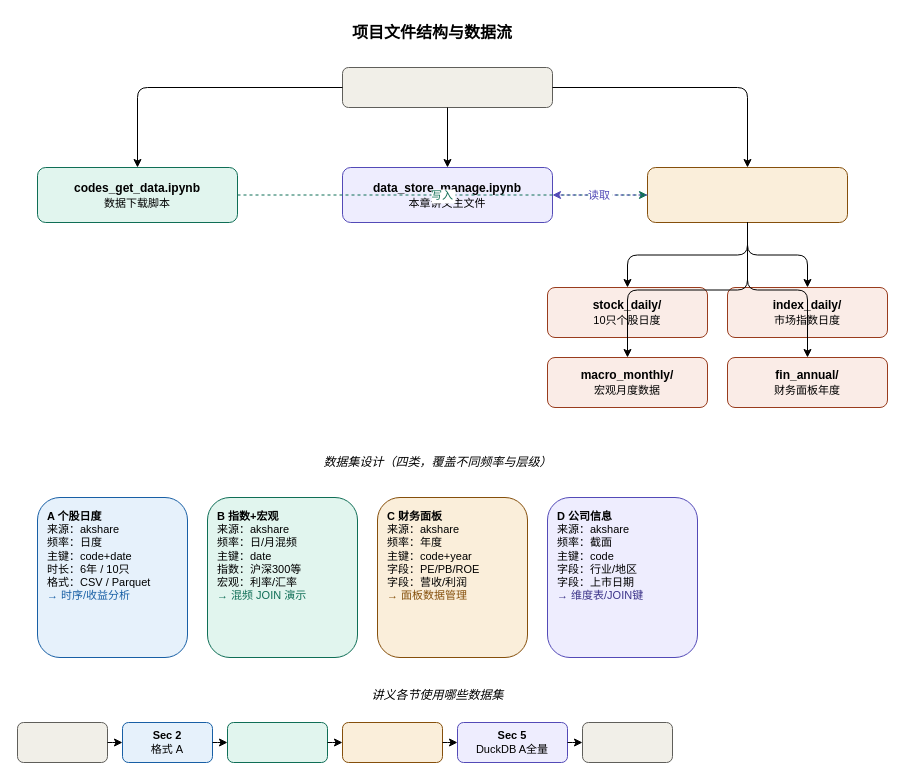
This 905x780 diagram has some shape labels left out. Here are the shapes that lost their labels. From the top down, the centre of each, then its label:
pixel 447 87: lecture_data_manage/
pixel 747 194: data_raw/ 原始数据存储目录
pixel 62 742: Sec 1 粒度/主键
pixel 277 742: Sec 3 SQLite A+C
pixel 392 742: Sec 4 SQL A+B+D
pixel 627 742: Sec 6 规范 全部
